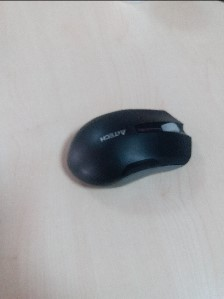mouse: (60, 109, 195, 191)
